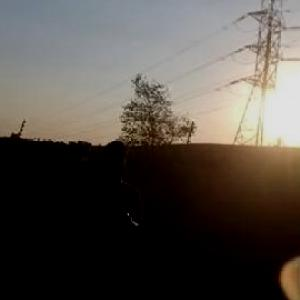follow: (69, 133, 148, 299)
